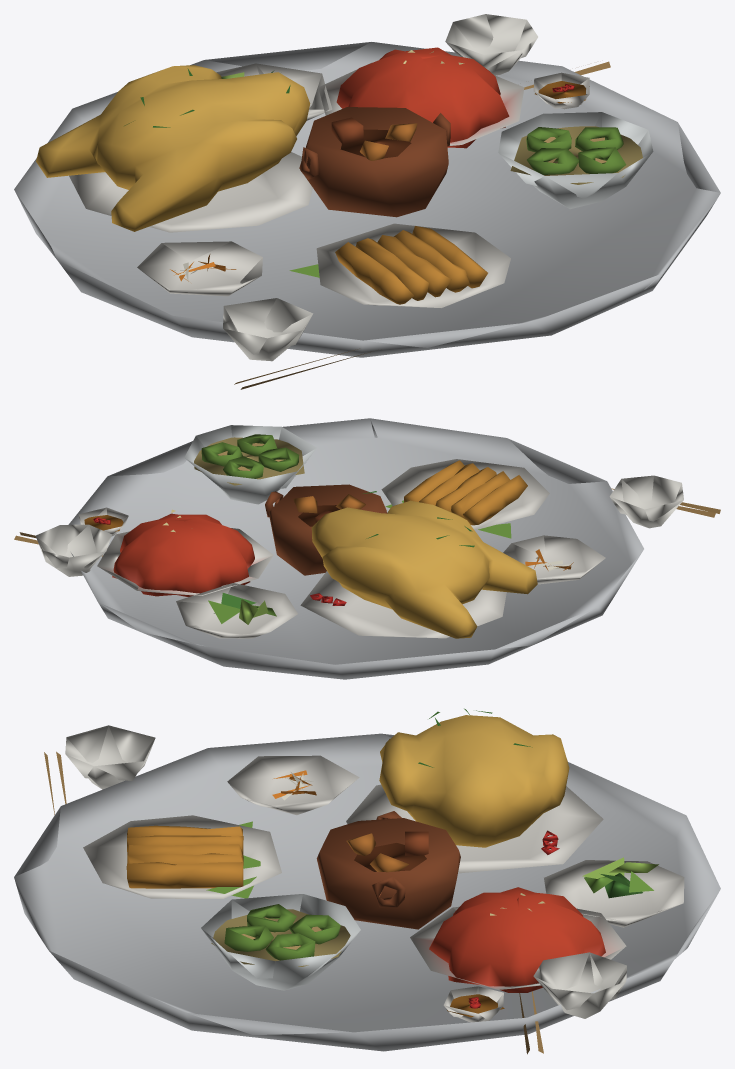
The model's file is mam_co.glb.
The picture shows the model from 3 angles, top to bottom: view 1: azimuth 30°, elevation 25°; view 2: azimuth 150°, elevation 25°; view 3: azimuth 270°, elevation 25°; orthographic projection. The views are drawn at different scales.
Parts seen in each view (by area): view 1: mam_co; view 2: mam_co; view 3: mam_co.
Part boxes in pixels (x1,y1,x2,y2): mam_co: [14, 14, 720, 389]; mam_co: [14, 418, 720, 679]; mam_co: [14, 708, 720, 1054].
Bounding box in the file's own units: 0.6796 × 0.1245 × 0.6589.
